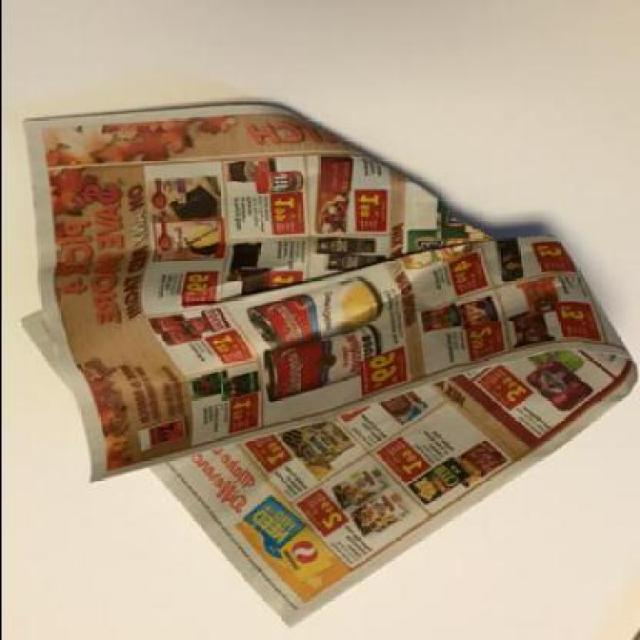PAPER: (20, 104, 638, 630)
